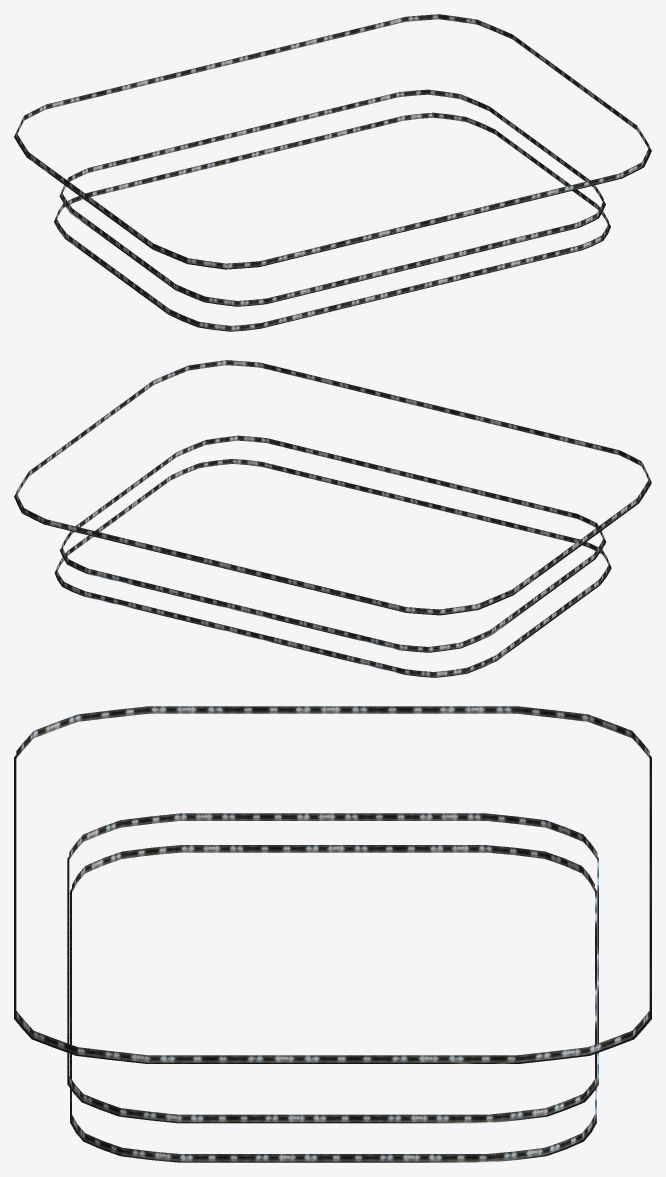
Rendered from barrasFlares.FBX.
The picture shows the model from 3 angles, top to bottom: view 1: azimuth 30°, elevation 25°; view 2: azimuth 150°, elevation 25°; view 3: azimuth 270°, elevation 25°; orthographic projection. The views are drawn at different scales.
Parts seen in each view (by area): view 1: barraFlares; view 2: barraFlares; view 3: barraFlares.
Boxes of the visible parts, x1,y1,x2,y2 form: barraFlares: (14,14,651,331); barraFlares: (14,360,651,677); barraFlares: (14,706,651,1162).
Size of the model in its own units: 189 by 31.65 by 145.
